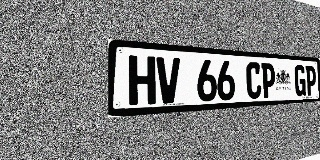6: (197, 59, 217, 102), (217, 60, 235, 101)
C: (246, 62, 261, 99)
G: (294, 65, 306, 96)
H: (129, 55, 156, 106)
P: (261, 63, 275, 98), (306, 65, 316, 96)
V: (156, 57, 180, 104)
